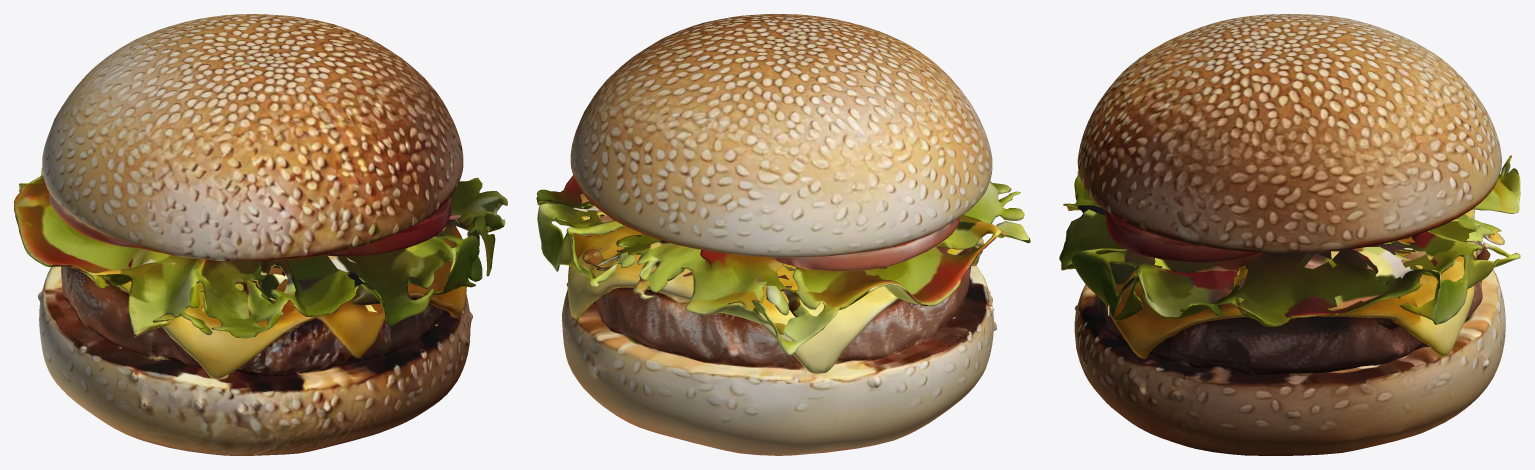
File: burger-optimized.glb
3 views of the same model, side by side, from view 1: azimuth 30°, elevation 25°; view 2: azimuth 150°, elevation 25°; view 3: azimuth 270°, elevation 25° (orthographic).
Parts seen in each view (by area): view 1: Burger; view 2: Burger; view 3: Burger.
Boxes of the visible parts, left/top/right/bottom form: Burger: left=14, top=14, right=507, bottom=455; Burger: left=536, top=14, right=1030, bottom=455; Burger: left=1059, top=14, right=1520, bottom=455.
Bounding box in the file's own units: 0.1446 × 0.12 × 0.1455.
1 material, 1 textured.
